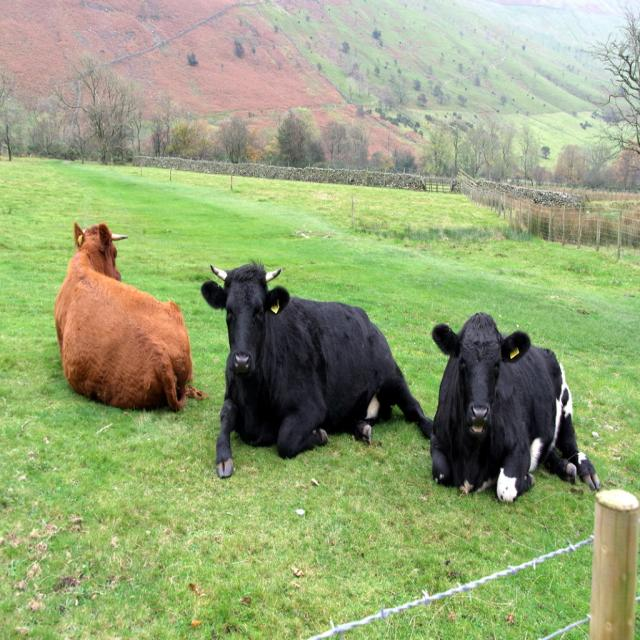Cattle: (200, 257, 434, 477), (430, 310, 601, 503), (54, 220, 210, 412)
